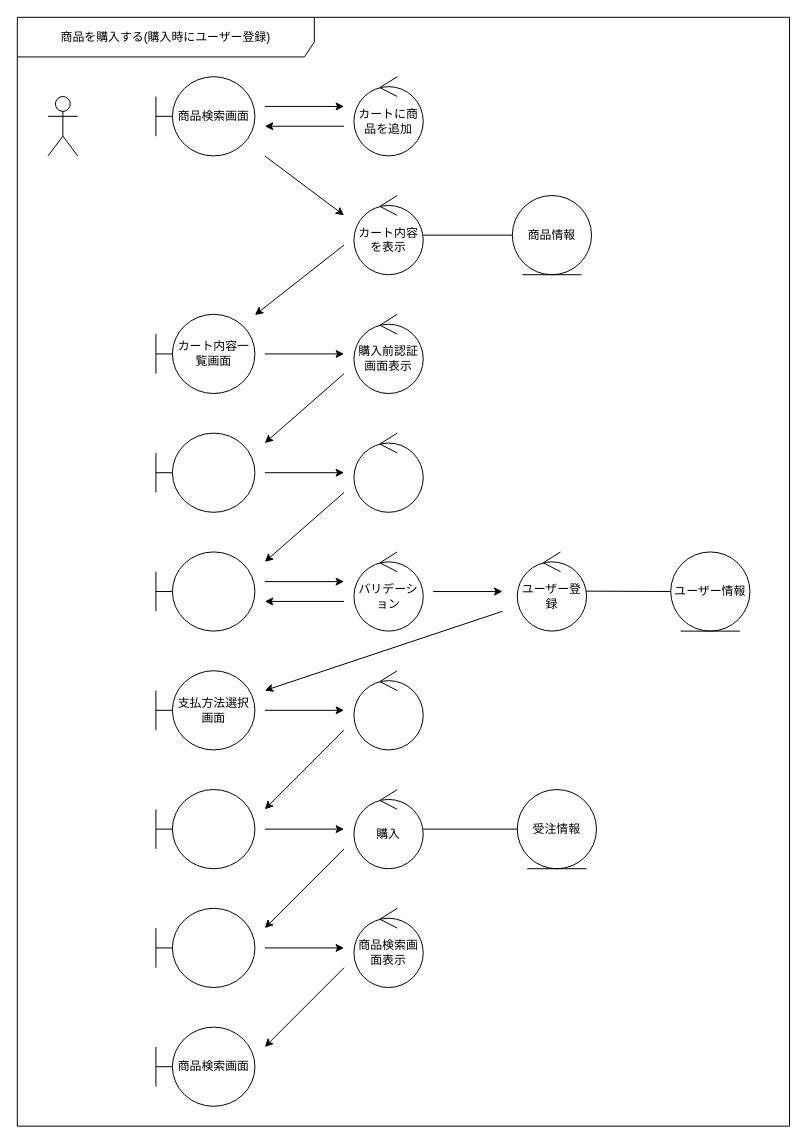
The diagram is 807 pixels wide and 1143 high, and some of its shapes have lost their labels. Each missing label, with the box of its shape:
支払方法選択: (353, 670, 423, 750)
新規ユーザー: (47, 96, 78, 156)
購入前ユーザー登録画面: (155, 551, 255, 631)
購入前ユーザー登録画面表示: (353, 432, 423, 512)
購入前認証画面: (155, 432, 255, 512)
購入完了画面: (155, 907, 255, 988)
購入確認画面: (155, 789, 255, 869)
